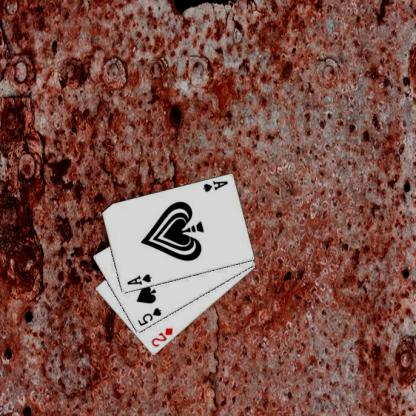2D: (149, 326, 174, 348)
5S: (135, 305, 163, 327)
AS: (200, 178, 229, 194), (124, 272, 152, 286)
